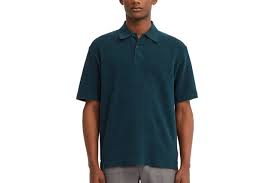C_polo shirt: (79, 23, 195, 169)
